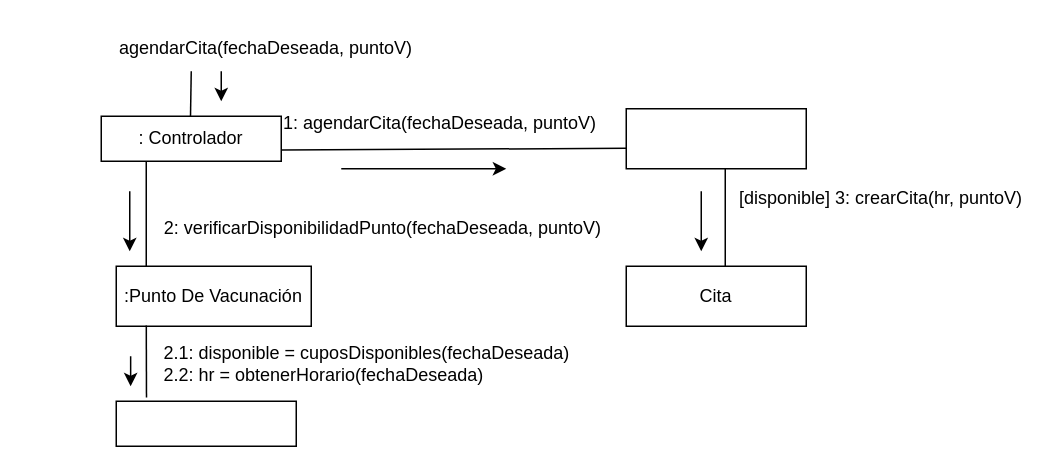
This 1056x473 diagram has some shape labels left out. The shapes that lost their labels are listed below. From the top down, each one's centre as x and y in pixels, then its label:
At (715,138): ":Campaña".
At (205,423): "Horario".
